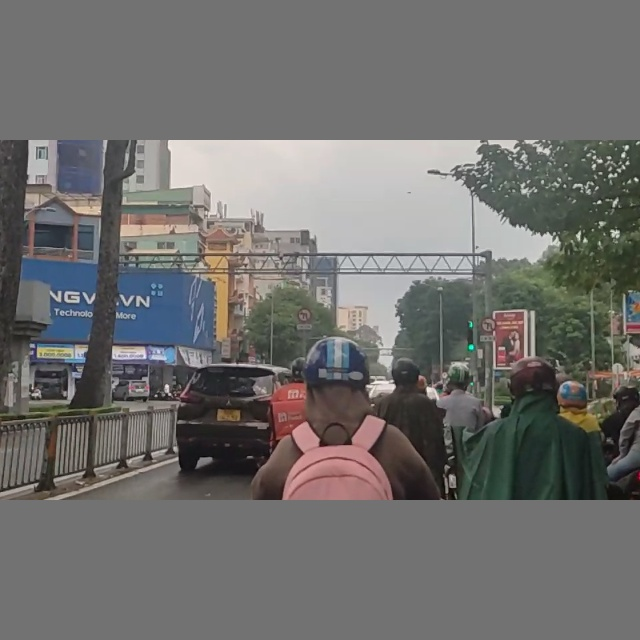P.124c: (297, 307, 314, 325), (481, 317, 496, 333)
